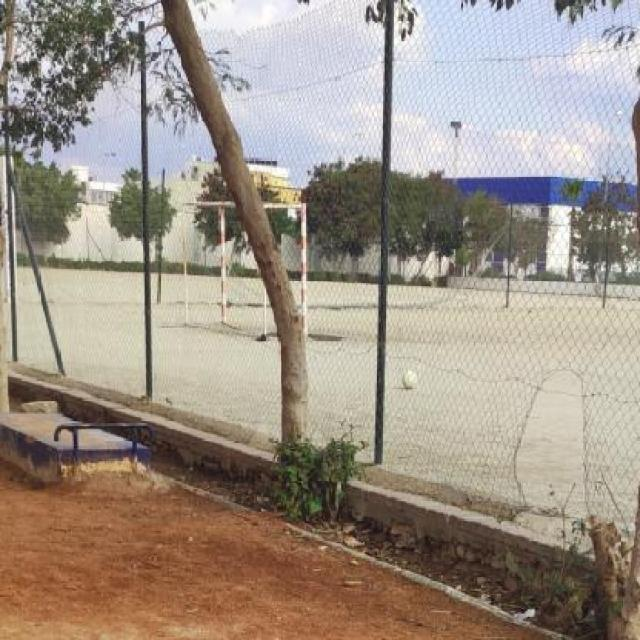fence line: (516, 370, 598, 547)
